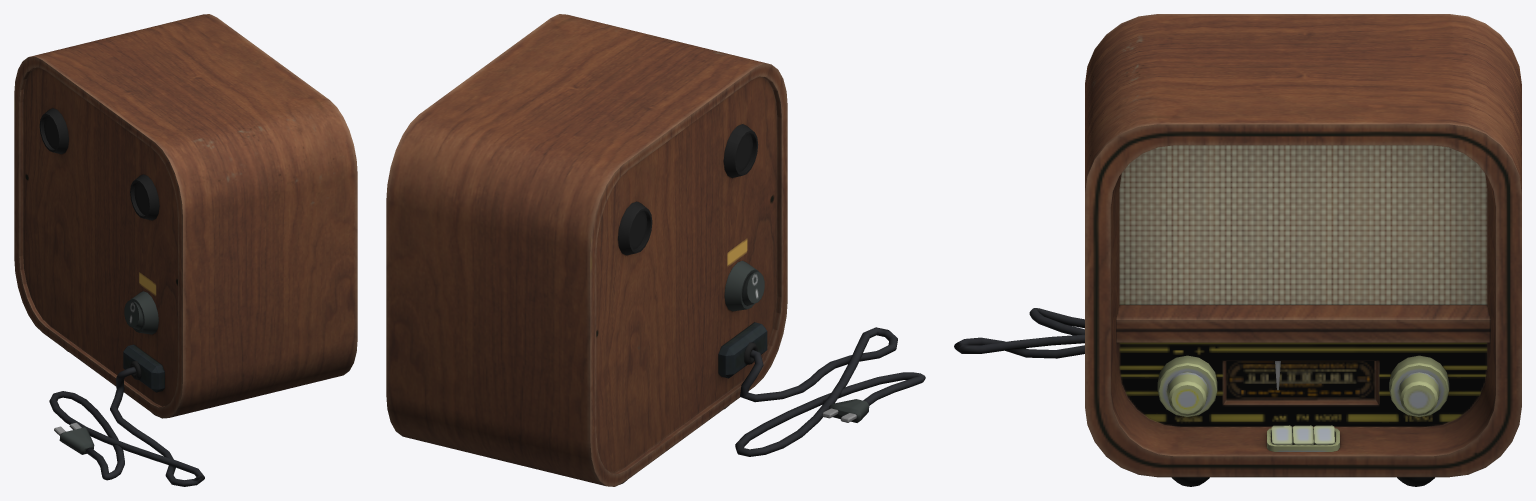
The model's file is radio.fbx.
The picture shows the model from 3 angles, left to right: view 1: azimuth 30°, elevation 25°; view 2: azimuth 150°, elevation 25°; view 3: azimuth 270°, elevation 25°; orthographic projection. The views are drawn at different scales.
Parts seen in each view (by area): view 1: RADIO SCETC FAB; view 2: RADIO SCETC FAB; view 3: RADIO SCETC FAB.
Boxes of the visible parts, <box> form: RADIO SCETC FAB: <box>14,14,357,486</box>; RADIO SCETC FAB: <box>386,14,925,486</box>; RADIO SCETC FAB: <box>954,14,1521,486</box>.
Size of the model in its own units: 105 by 106 by 146.
